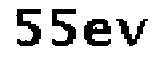5: (46, 6, 81, 50), (11, 6, 43, 50)
e: (81, 16, 112, 50)
v: (116, 15, 147, 49)
